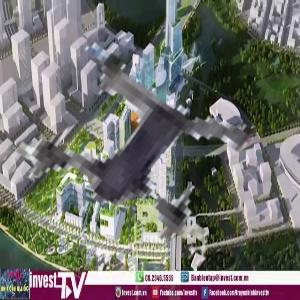drone: (1, 30, 268, 297)
